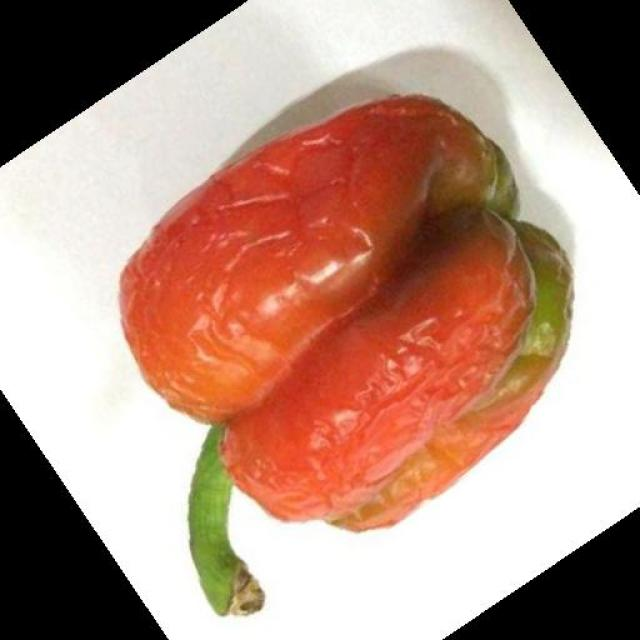Stale_Capsicum: (121, 89, 536, 527)
